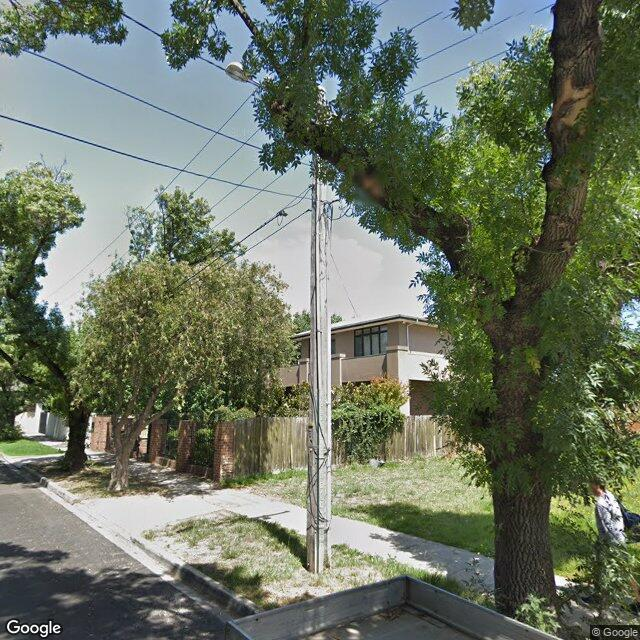streetlight: (224, 62, 261, 88)
timber-pole: (307, 85, 332, 574)
